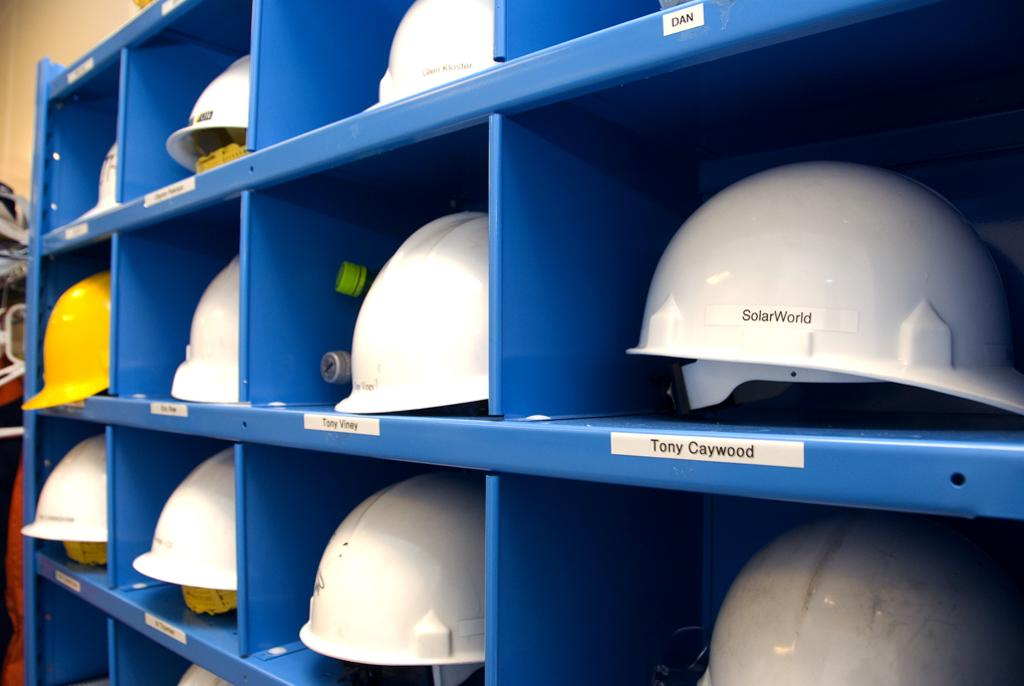helmet: (625, 160, 1024, 416), (695, 512, 1023, 685), (299, 474, 486, 666), (334, 211, 489, 414), (132, 447, 236, 591), (20, 271, 110, 410), (171, 254, 240, 404), (166, 53, 250, 173), (21, 432, 108, 542)
